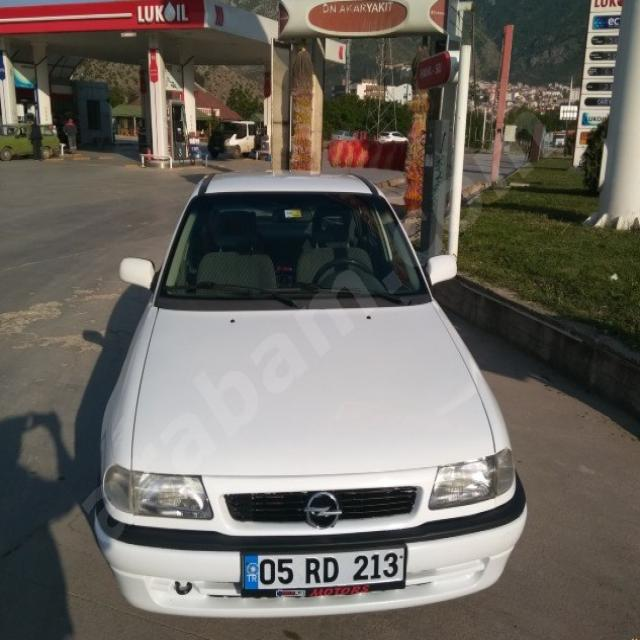license_plate: (243, 547, 406, 590)
